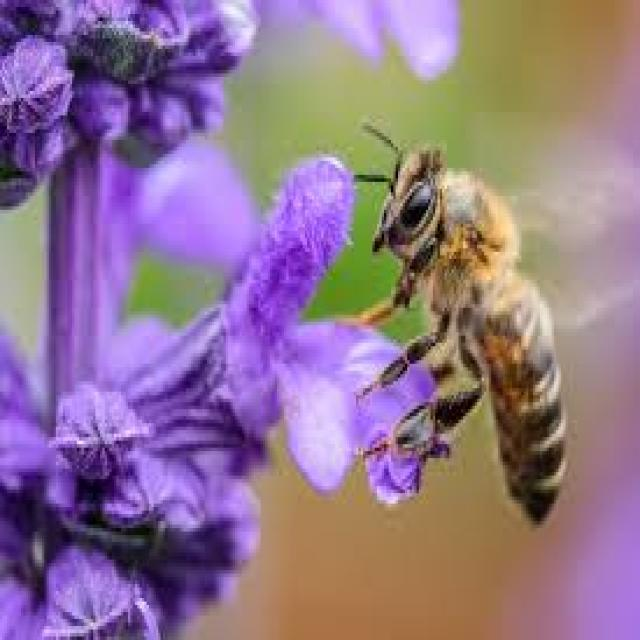Bees: (336, 122, 569, 534)
